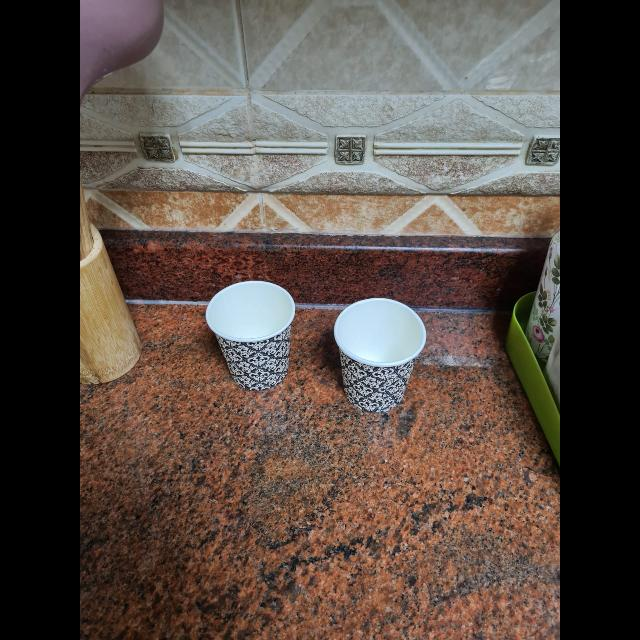trash: (332, 298, 426, 416), (210, 276, 298, 396)
